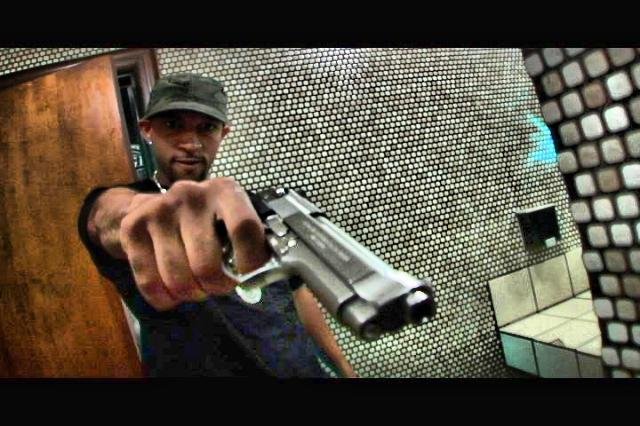pistol: (136, 182, 437, 333)
